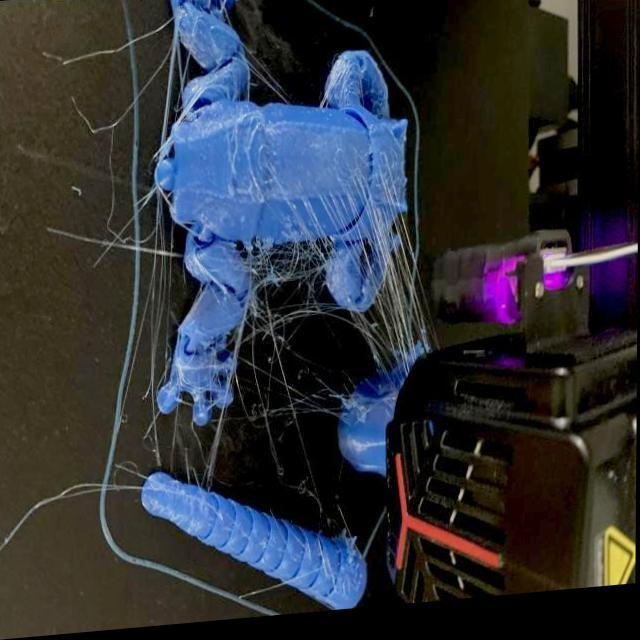stringing: (250, 267, 327, 528), (320, 156, 419, 300), (234, 301, 343, 358), (197, 357, 242, 491), (148, 204, 177, 358), (370, 287, 416, 370), (256, 240, 314, 300), (255, 392, 342, 430), (322, 65, 344, 108), (178, 92, 204, 119)
